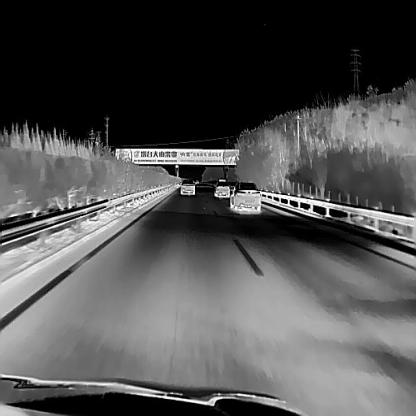car: (230, 180, 260, 211), (214, 178, 230, 197), (178, 177, 194, 194)
